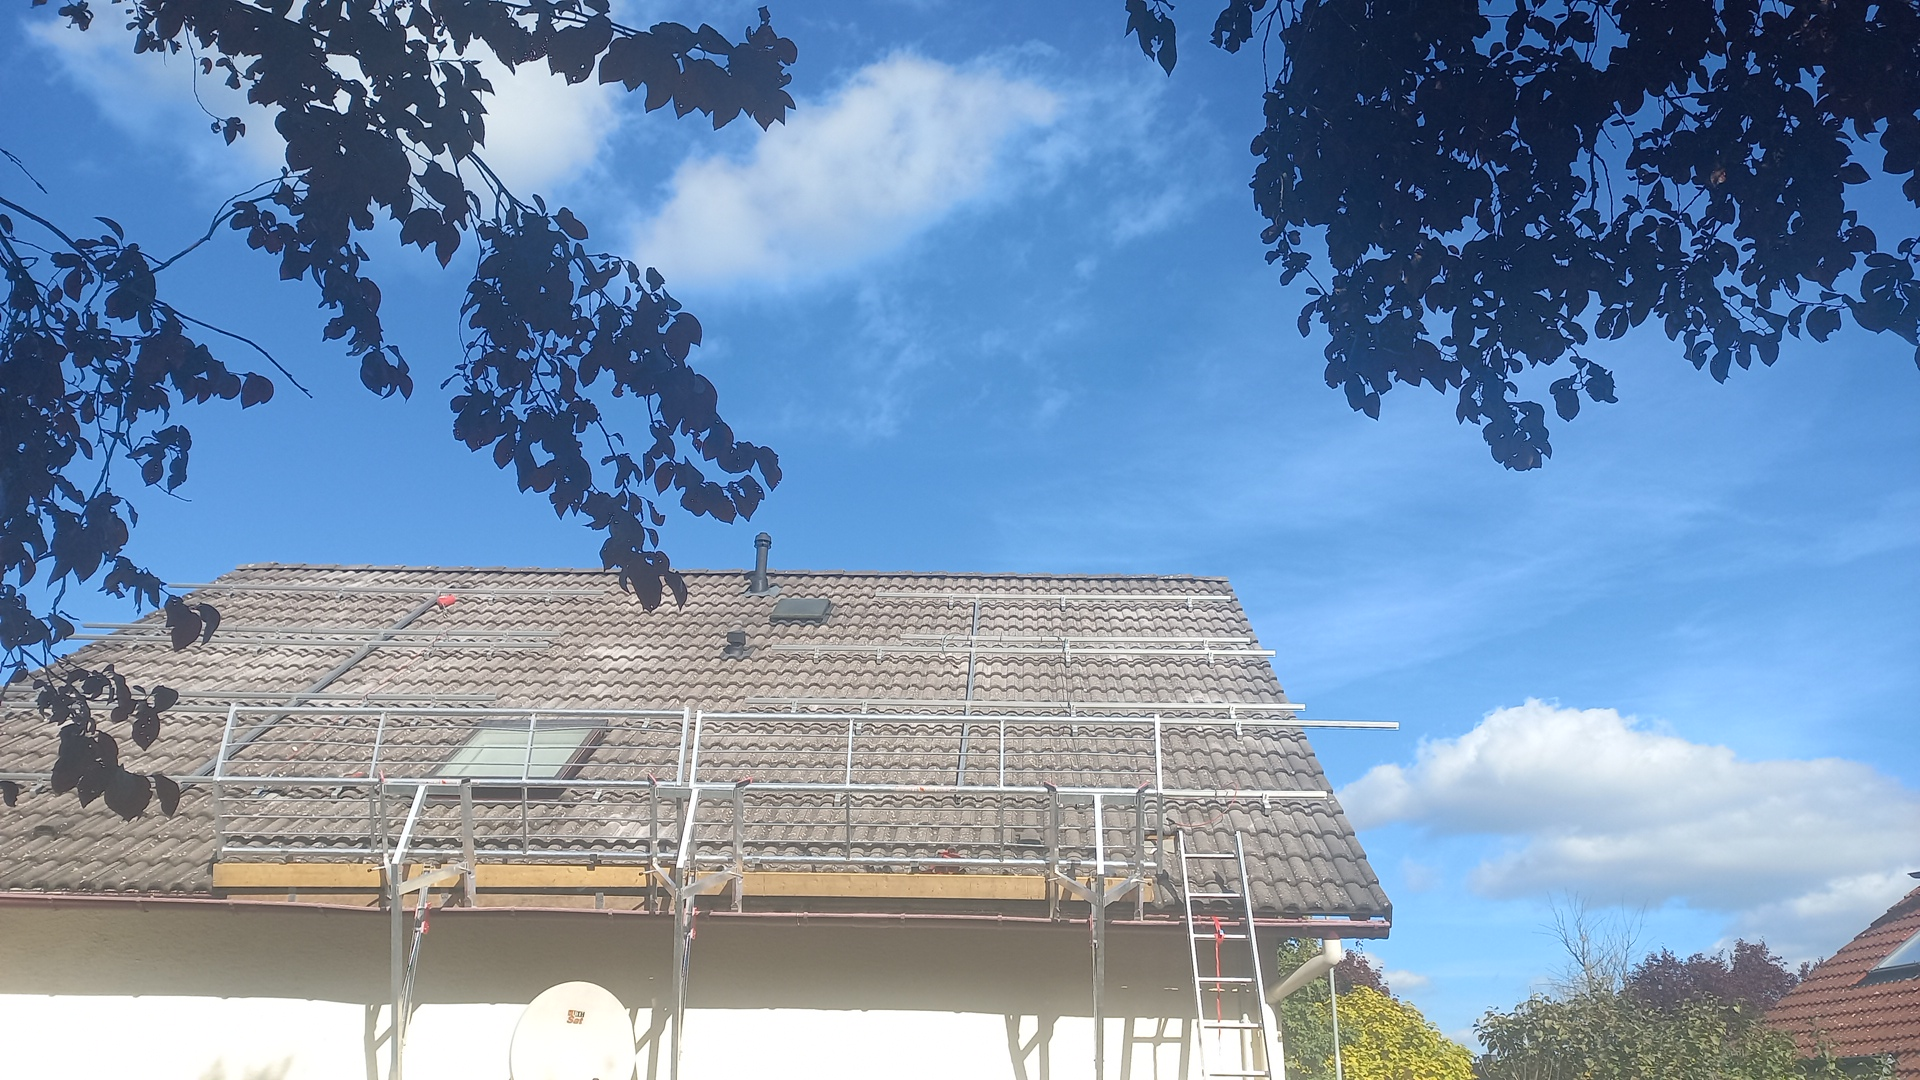hook: (30, 775, 44, 796), (1262, 793, 1271, 816), (1, 703, 12, 723), (592, 787, 603, 806), (251, 781, 262, 796), (410, 715, 421, 731), (1236, 720, 1244, 741), (128, 637, 138, 653), (331, 785, 343, 798), (253, 640, 262, 655), (642, 716, 650, 735), (339, 713, 349, 727), (425, 642, 433, 659), (334, 588, 343, 603), (439, 628, 448, 642), (545, 591, 553, 607), (487, 644, 495, 659), (814, 647, 820, 665), (149, 625, 160, 636), (225, 585, 233, 599), (489, 589, 496, 605), (500, 632, 509, 642), (359, 698, 368, 708), (1187, 597, 1193, 612), (877, 647, 882, 665), (1209, 651, 1215, 669), (1069, 704, 1076, 717), (1229, 705, 1236, 719), (856, 721, 862, 735), (833, 793, 840, 806), (272, 630, 281, 640), (429, 698, 436, 708), (1203, 640, 1211, 650), (1065, 651, 1071, 665), (861, 700, 866, 713), (791, 700, 796, 713), (942, 636, 947, 647), (949, 595, 953, 609), (1062, 596, 1065, 611), (1072, 724, 1077, 735), (1065, 638, 1069, 647)
